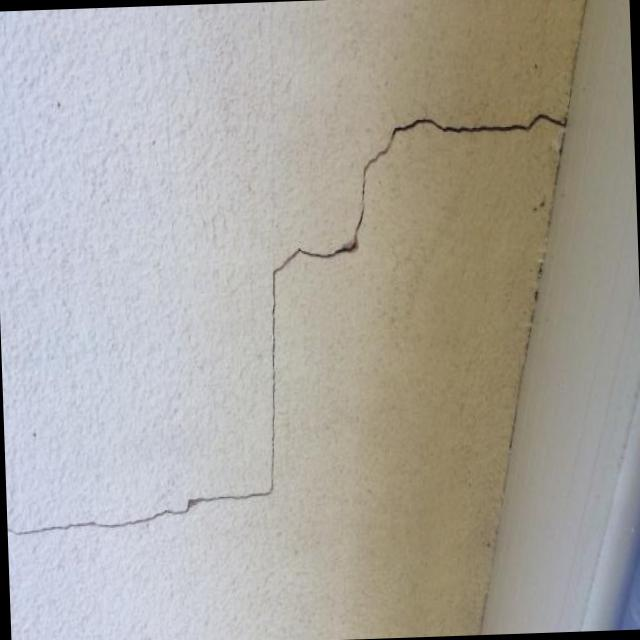crack: (8, 108, 568, 538)
